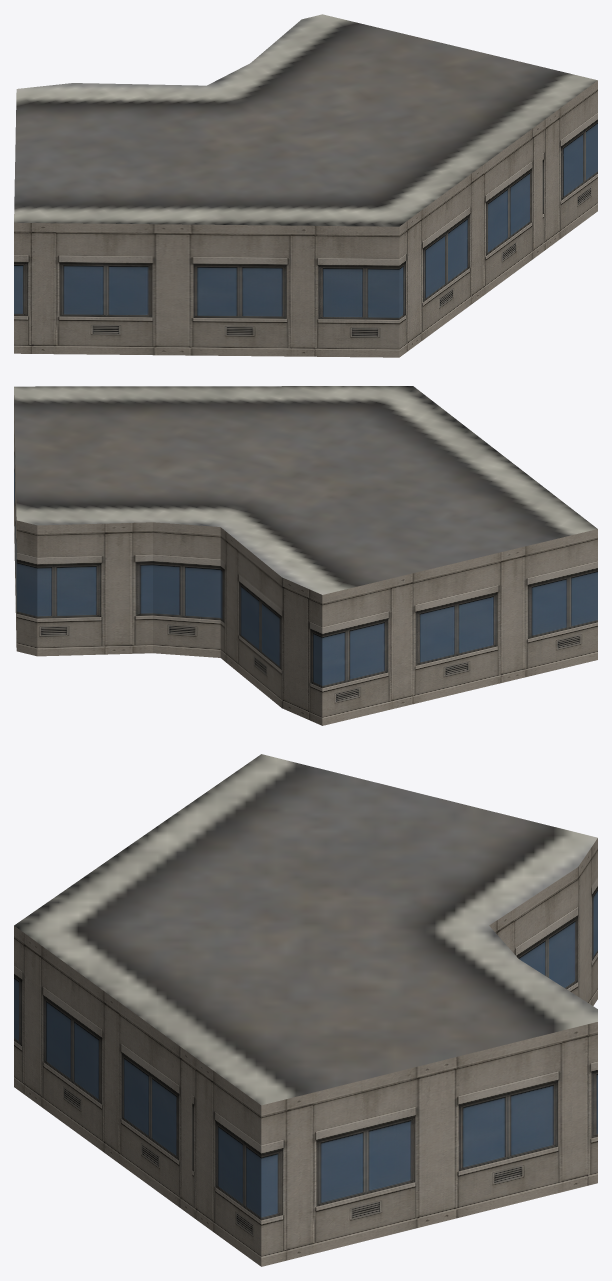
The model's file is building_light_34.glb.
The picture shows the model from 3 angles, top to bottom: view 1: azimuth 30°, elevation 25°; view 2: azimuth 150°, elevation 25°; view 3: azimuth 270°, elevation 25°; orthographic projection. The views are drawn at different scales.
Visible parts, largest first — view 1: buildings/saxarba/building_light/building_light_34; view 2: buildings/saxarba/building_light/building_light_34; view 3: buildings/saxarba/building_light/building_light_34.
Boxes of the visible parts, x1,y1,x2,y2 form: buildings/saxarba/building_light/building_light_34: (14, 14, 597, 357); buildings/saxarba/building_light/building_light_34: (14, 386, 597, 725); buildings/saxarba/building_light/building_light_34: (14, 754, 597, 1266).
Bounding box in the file's own units: 84 × 18 × 59.
